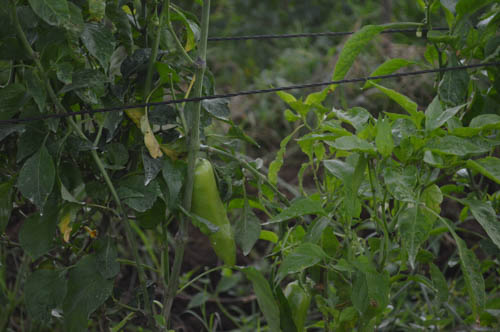ChiliPepper: (190, 164, 243, 262)
